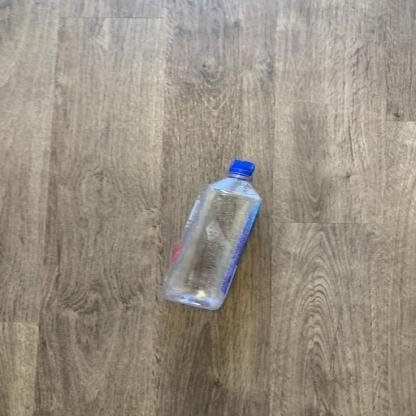trash: (157, 158, 264, 312)
